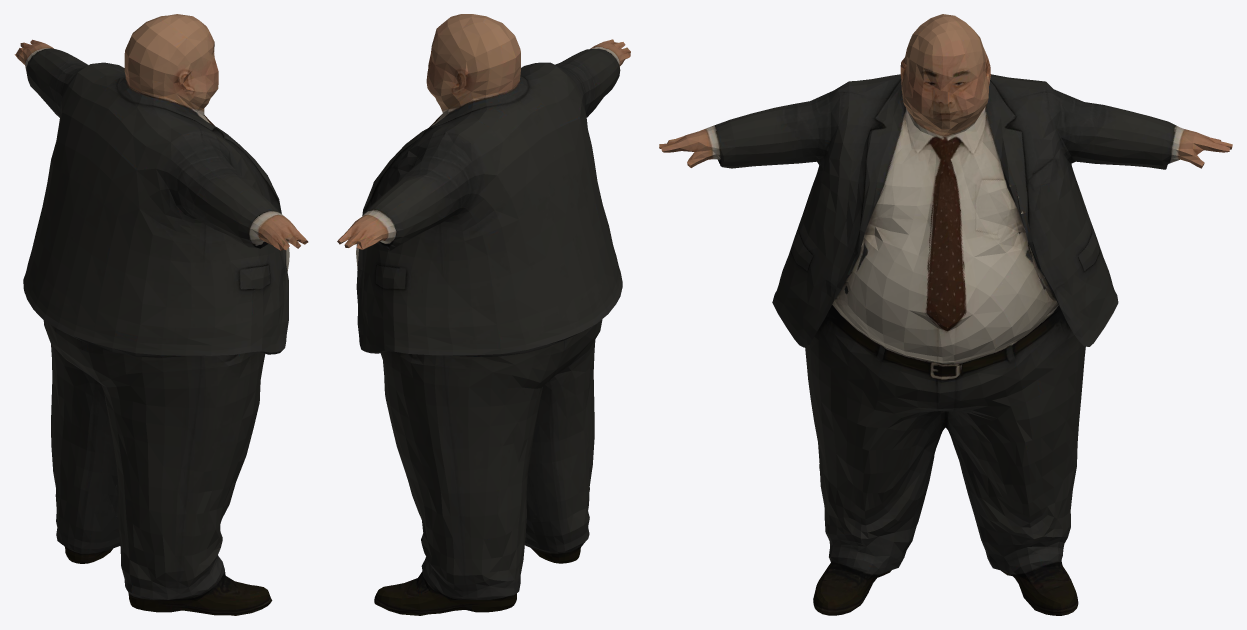
File: 原始中年男子.obj
The picture shows the model from 3 angles, left to right: view 1: azimuth 30°, elevation 25°; view 2: azimuth 150°, elevation 25°; view 3: azimuth 270°, elevation 25°; orthographic projection. The views are drawn at different scales.
Visible parts, largest first — view 1: tripo_node_d27d0f15-e6ef-44a0-b3e9-b34e86c818ad; view 2: tripo_node_d27d0f15-e6ef-44a0-b3e9-b34e86c818ad; view 3: tripo_node_d27d0f15-e6ef-44a0-b3e9-b34e86c818ad.
Part boxes in pixels (box(x1,y1,x2,y2)): tripo_node_d27d0f15-e6ef-44a0-b3e9-b34e86c818ad: box(14, 14, 308, 615); tripo_node_d27d0f15-e6ef-44a0-b3e9-b34e86c818ad: box(337, 14, 630, 615); tripo_node_d27d0f15-e6ef-44a0-b3e9-b34e86c818ad: box(659, 14, 1232, 615).
Size of the model in its own units: 0.444 by 0.9993 by 0.9005.
Materials: 1 (1 with a texture image).
